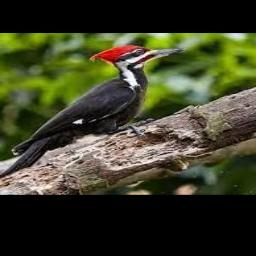Woodpecker: (0, 44, 185, 181)
